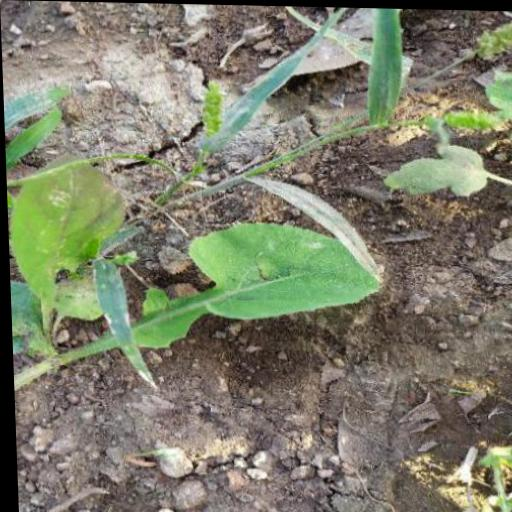weed: (4, 145, 392, 387), (394, 43, 512, 230), (464, 401, 512, 512)
